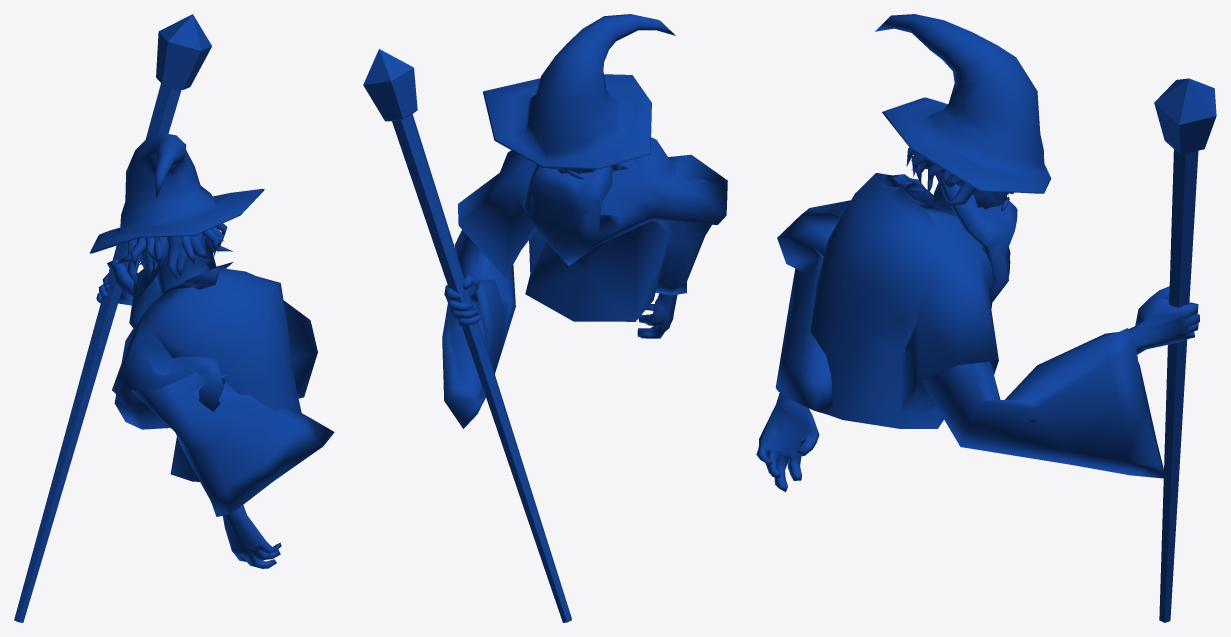
Rendered from top_000075.obj.
The picture shows the model from 3 angles, left to right: view 1: azimuth 30°, elevation 25°; view 2: azimuth 150°, elevation 25°; view 3: azimuth 270°, elevation 25°; orthographic projection. The views are drawn at different scales.
Parts seen in each view (by area): view 1: Wizard_Plane.002; view 2: Wizard_Plane.002; view 3: Wizard_Plane.002.
Part boxes in pixels (x1,y1,x2,y2): Wizard_Plane.002: [14, 14, 334, 622]; Wizard_Plane.002: [363, 14, 727, 622]; Wizard_Plane.002: [756, 14, 1216, 622].
Bounding box in the file's own units: 0.7477 × 1.67 × 1.07.
